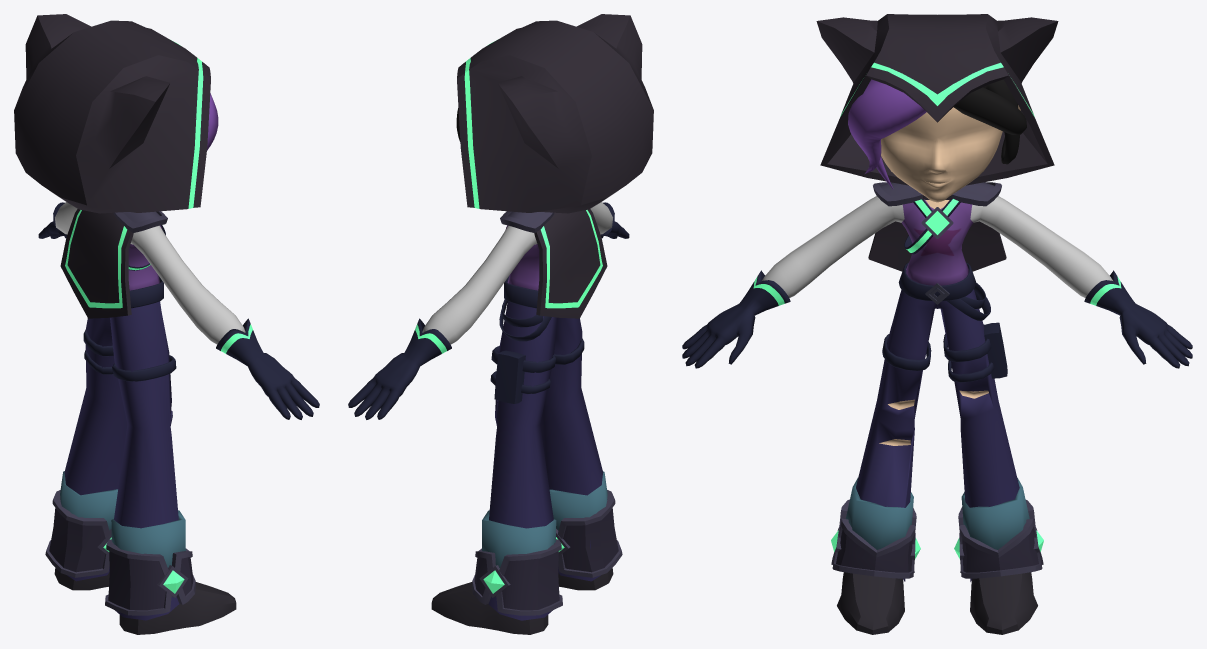
File: кира с капюшоном.fbx
The picture shows the model from 3 angles, left to right: view 1: azimuth 30°, elevation 25°; view 2: azimuth 150°, elevation 25°; view 3: azimuth 270°, elevation 25°; orthographic projection. The views are drawn at different scales.
Visible parts, largest first — view 1: Плоскость.008, Куб.025, Плоскость.006, Плоскость.004, Плоскость, Куб.016, Куб.001, Куб, Плоскость.003, ОкружностьБезье.003, Плоскость.007, ОкружностьБезье; view 2: Плоскость.008, Куб.025, Плоскость.006, Плоскость.004, Плоскость, Куб.016, Куб.001, Куб, Куб.002, Плоскость.003, Плоскость.007, ОкружностьБезье (+1 smaller); view 3: Плоскость.008, Куб.025, Плоскость, Куб.016, Плоскость.001, Куб, Плоскость.006, Куб.001, ТраекторияNurbs.004, Плоскость.004, ТраекторияNurbs.006, Плоскость.003 (+3 smaller).
Boxes of the visible parts, left/top/right/bottom form: Плоскость.008: left=14, top=14, right=210, bottom=213; Куб.025: left=64, top=301, right=179, bottom=620; Плоскость.006: left=45, top=490, right=195, bottom=615; Плоскость.004: left=60, top=209, right=133, bottom=318; Плоскость: left=55, top=202, right=245, bottom=344; Куб.016: left=38, top=202, right=319, bottom=419; Куб.001: left=60, top=471, right=185, bottom=567; Куб: left=54, top=568, right=236, bottom=634; Плоскость.003: left=113, top=211, right=167, bottom=232; ОкружностьБезье.003: left=112, top=355, right=176, bottom=381; Плоскость.007: left=97, top=529, right=188, bottom=597; ОкружностьБезье: left=129, top=276, right=163, bottom=308; Плоскость.008: left=457, top=14, right=653, bottom=213; Куб.025: left=488, top=301, right=603, bottom=620; Плоскость.006: left=472, top=490, right=622, bottom=615; Плоскость.004: left=534, top=209, right=607, bottom=318; Плоскость: left=422, top=202, right=612, bottom=344; Куб.016: left=348, top=202, right=629, bottom=419; Куб.001: left=482, top=471, right=607, bottom=567; Куб: left=431, top=568, right=613, bottom=634; Куб.002: left=494, top=350, right=525, bottom=403; Плоскость.003: left=500, top=211, right=554, bottom=232; Плоскость.007: left=479, top=529, right=570, bottom=597; ОкружностьБезье: left=504, top=276, right=538, bottom=308; Плоскость.008: left=816, top=14, right=1058, bottom=199; Куб.025: left=856, top=289, right=1031, bottom=581; Плоскость: left=762, top=196, right=1112, bottom=297; Куб.016: left=682, top=270, right=1192, bottom=368; Плоскость.001: left=881, top=105, right=1020, bottom=208; Куб: left=837, top=572, right=1037, bottom=634; Плоскость.006: left=831, top=499, right=1043, bottom=578; Куб.001: left=846, top=478, right=1029, bottom=549; ТраекторияNurbs.004: left=848, top=79, right=926, bottom=173; Плоскость.004: left=868, top=221, right=1006, bottom=271; ТраекторияNurbs.006: left=953, top=87, right=1026, bottom=134; Плоскость.003: left=873, top=182, right=1001, bottom=206.
Bounding box in the file's own units: 210 × 678 × 545.
14 materials, 1 textured.
